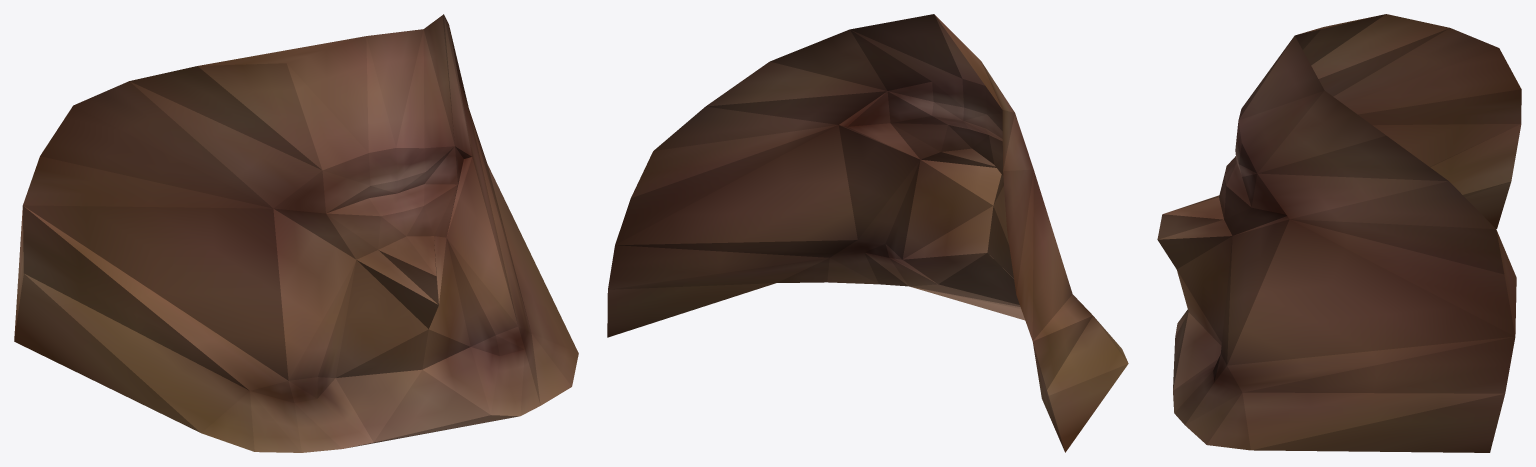
File: real_32689.obj
The picture shows the model from 3 angles, left to right: view 1: azimuth 30°, elevation 25°; view 2: azimuth 150°, elevation 25°; view 3: azimuth 270°, elevation 25°; orthographic projection. The views are drawn at different scales.
Bounding box in the file's own units: 113 × 79 × 77.55.
